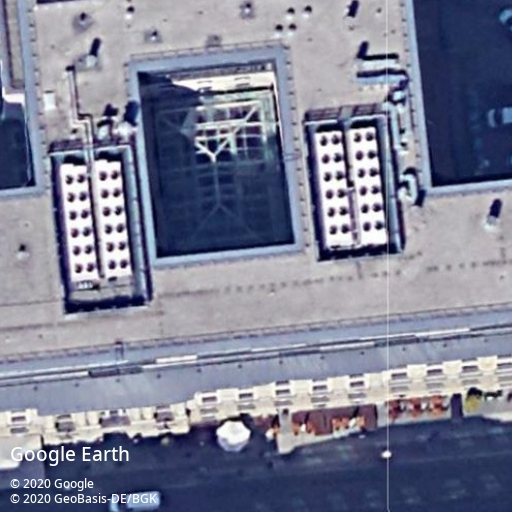Chiller: (58, 163, 100, 281), (346, 126, 388, 244), (93, 159, 133, 278), (314, 129, 353, 247)
